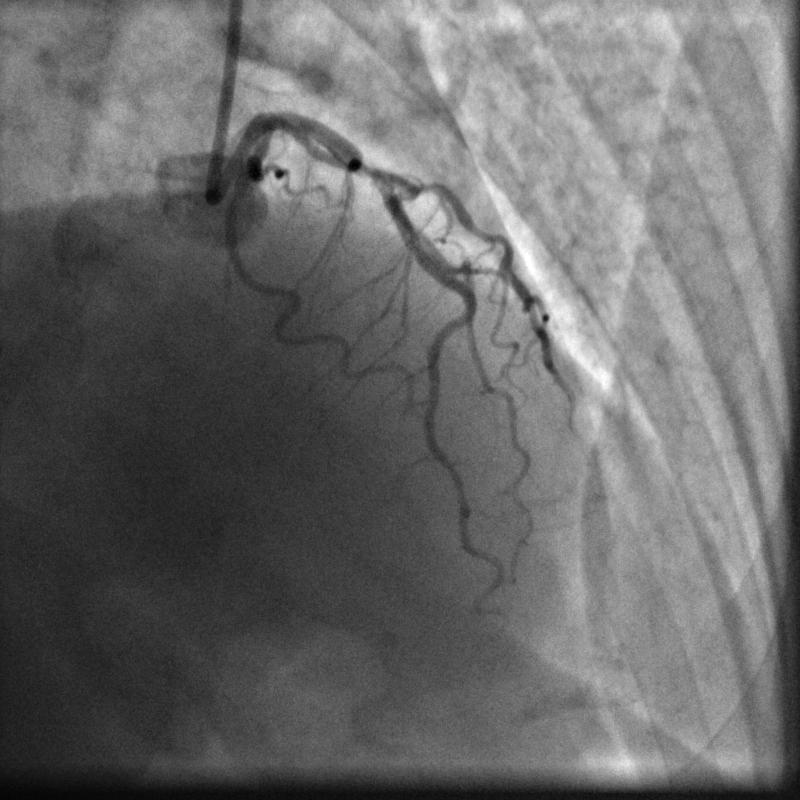Stenosis: (358, 152, 375, 184)
